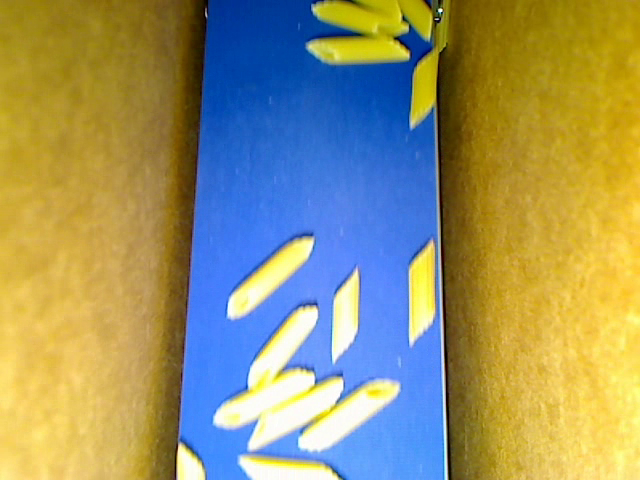penne: (244, 374, 342, 454), (298, 381, 398, 456), (223, 236, 314, 317), (244, 301, 320, 395), (211, 366, 314, 430), (307, 1, 409, 37), (405, 240, 437, 344), (329, 261, 360, 360), (301, 38, 414, 63), (408, 45, 440, 130), (231, 455, 339, 479), (172, 440, 212, 479), (398, 1, 432, 39), (359, 1, 406, 25), (435, 1, 452, 50)
